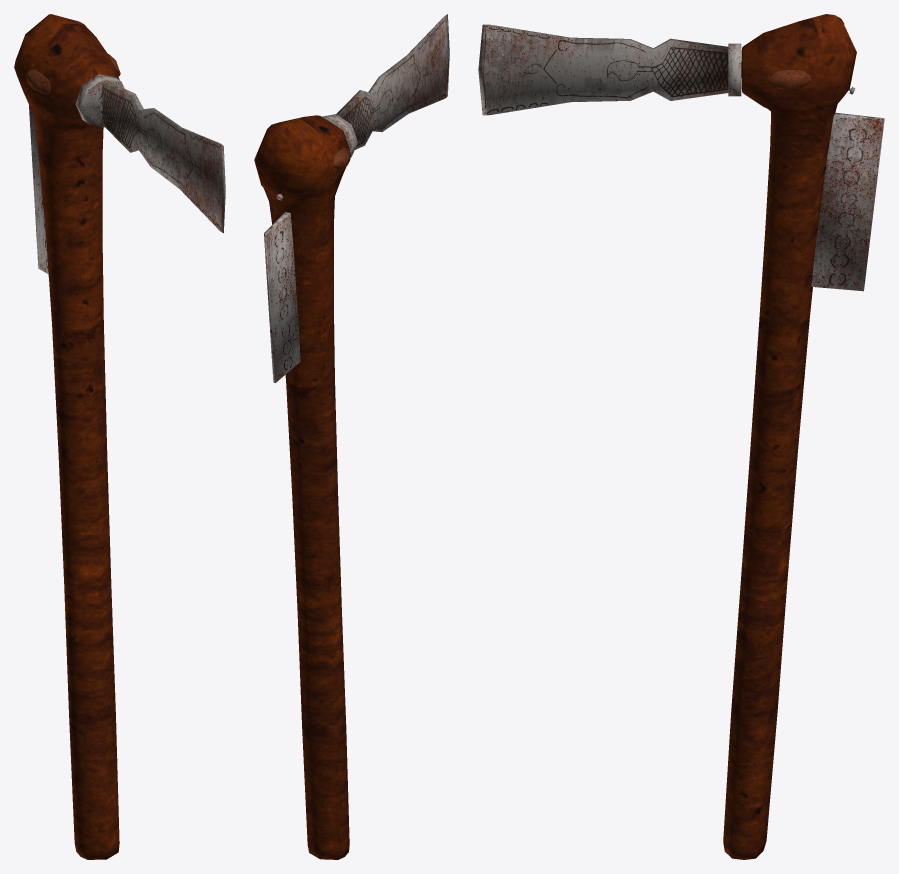
File: Bâton_dance_guèrrière.fbx
3 renders of one model, left to right at view 1: azimuth 30°, elevation 25°; view 2: azimuth 150°, elevation 25°; view 3: azimuth 270°, elevation 25°, orthographic. The views are drawn at different scales.
Visible parts, largest first — view 1: Bâton, fer, Fer_dos, Clou-côté; view 2: Bâton, fer, Fer_dos; view 3: Bâton, fer, Fer_dos.
Part boxes in pixels (x1,y1,x2,y2): Bâton: (14, 14, 119, 859); fer: (75, 74, 225, 233); Fer_dos: (29, 105, 48, 274); Clou-côté: (26, 54, 120, 94); Bâton: (254, 115, 350, 859); fer: (322, 14, 449, 157); Fer_dos: (264, 211, 300, 382); Bâton: (723, 14, 856, 859); fer: (478, 24, 741, 115); Fer_dos: (811, 112, 884, 291).
Size of the model in its own units: 100 by 932 by 410.
Materials: 2 (2 with a texture image).
